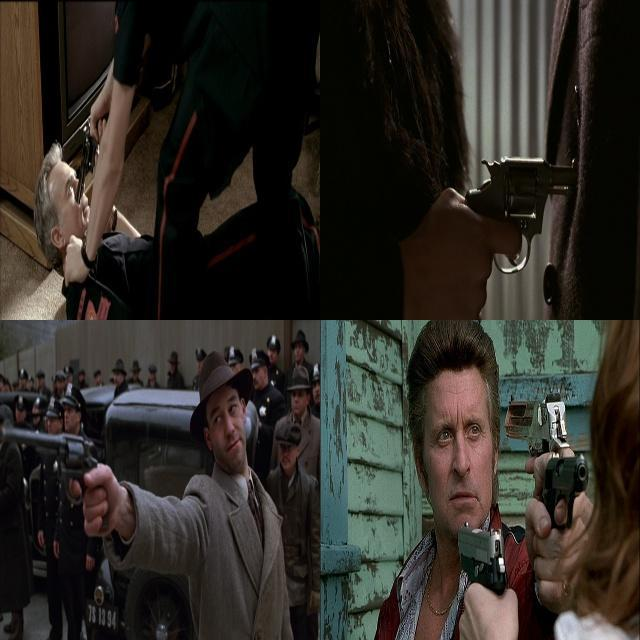gun-knife-thesis - v11 Yolov5 augmented: (451, 146, 581, 316), (0, 416, 113, 543), (453, 507, 507, 619), (502, 383, 569, 467), (533, 445, 589, 530), (74, 106, 100, 208)
